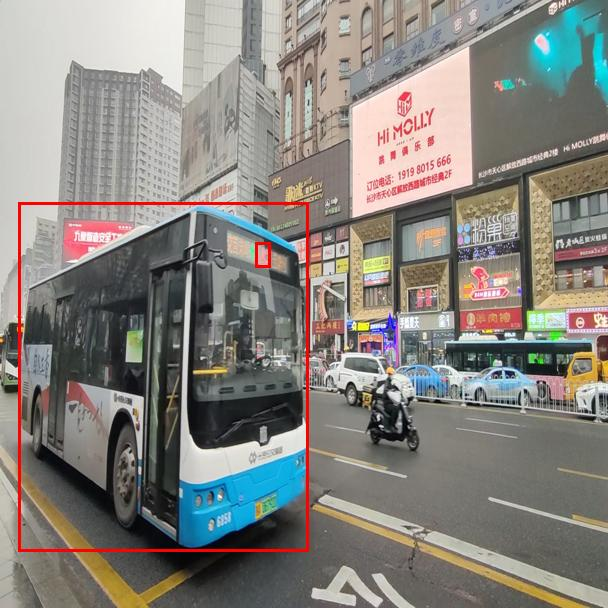bus: (18, 202, 308, 551)
screen: (255, 242, 270, 267)
